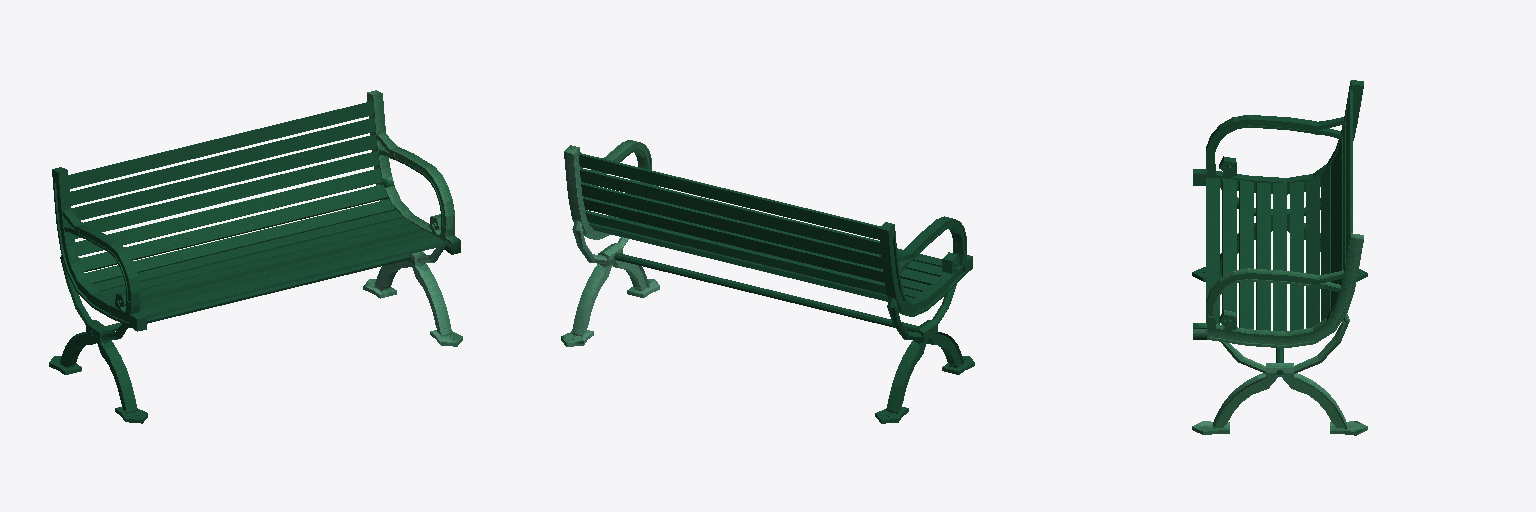
3 views of the same model, side by side, from view 1: azimuth 30°, elevation 25°; view 2: azimuth 150°, elevation 25°; view 3: azimuth 270°, elevation 25° (orthographic).
Visible parts, largest first — view 1: LoD_1; view 2: LoD_1; view 3: LoD_1.
Boxes of the visible parts, box(x1,y1,x2,y2) form: LoD_1: box(49, 90, 462, 423); LoD_1: box(561, 140, 974, 423); LoD_1: box(1192, 80, 1367, 435).
Bounding box in the file's own units: 10.87 × 5.98 × 4.9.
Materials: 1 (1 with a texture image).